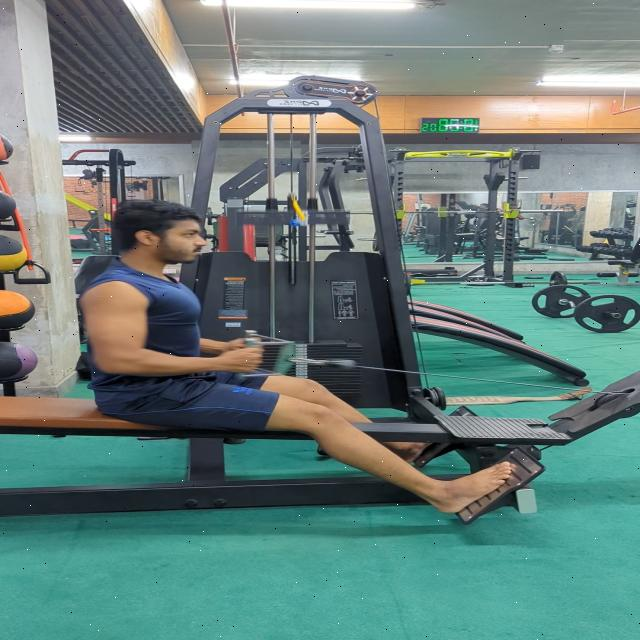Normal_RowingMachineExercise: (73, 201, 514, 515)
